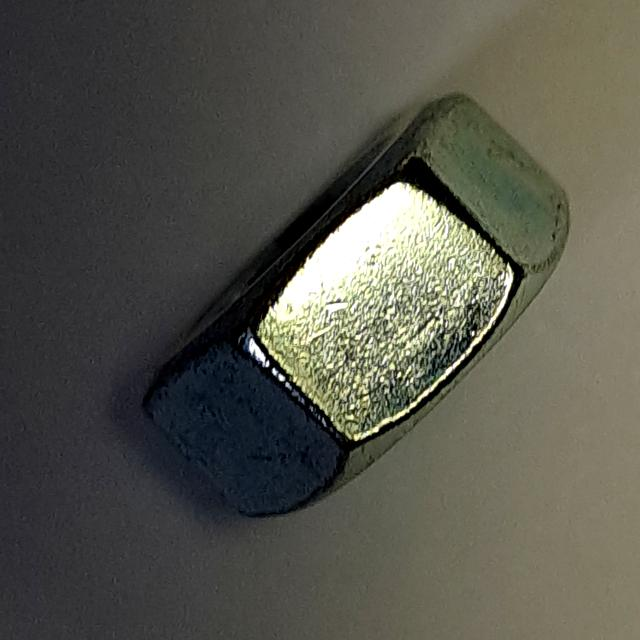Side_Excellent: (134, 81, 583, 528)
